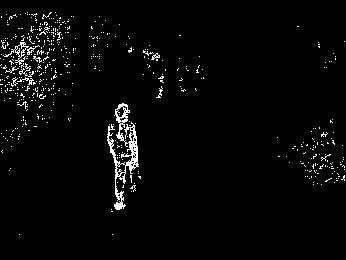person: (105, 102, 141, 211)
